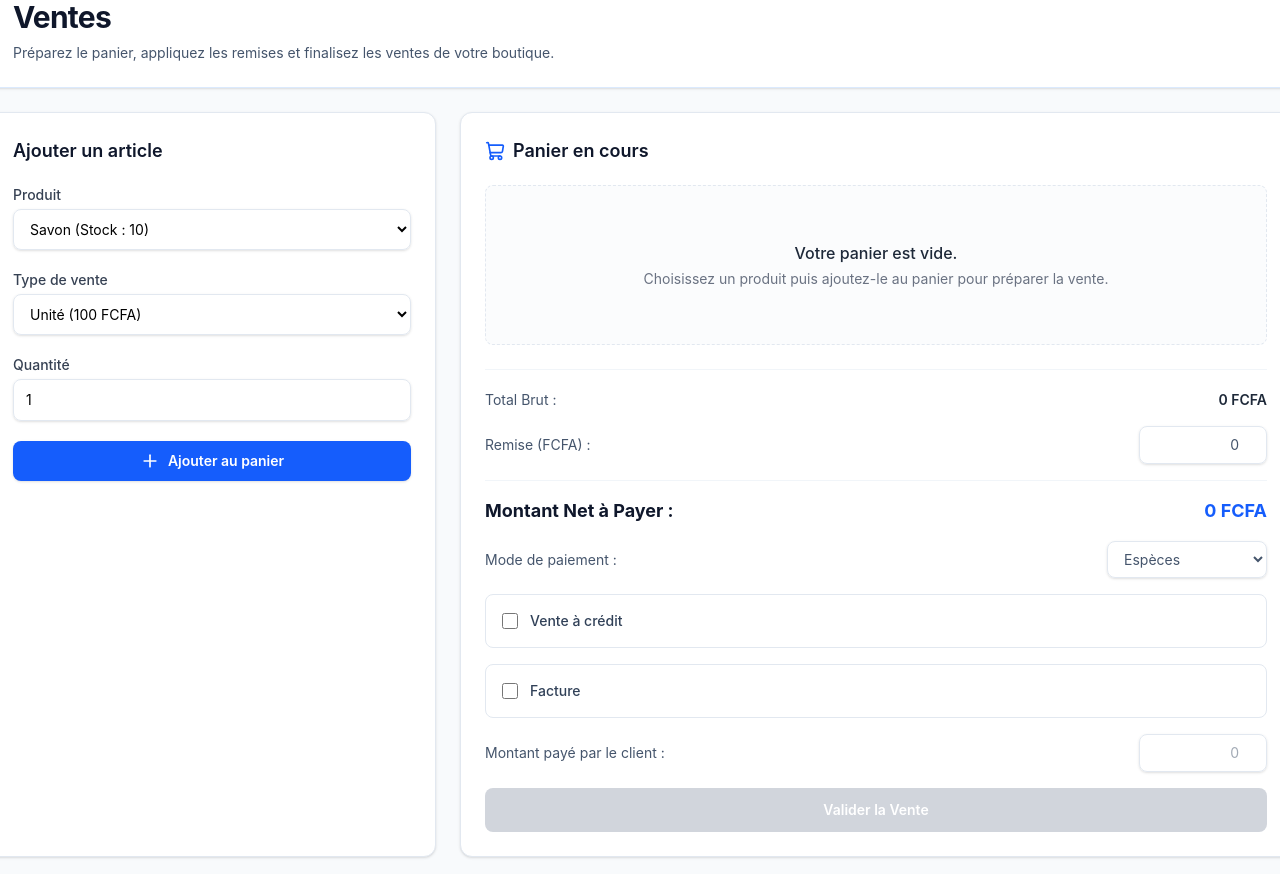
Test case: Sales - vente à crédit (V2 étape 5) › affiche l'avertissement de plafond de crédit renvoyé par l'API sans bloquer
Click the button "Ajouter au panier".
click(212, 461)  # box [13,441,411,481]
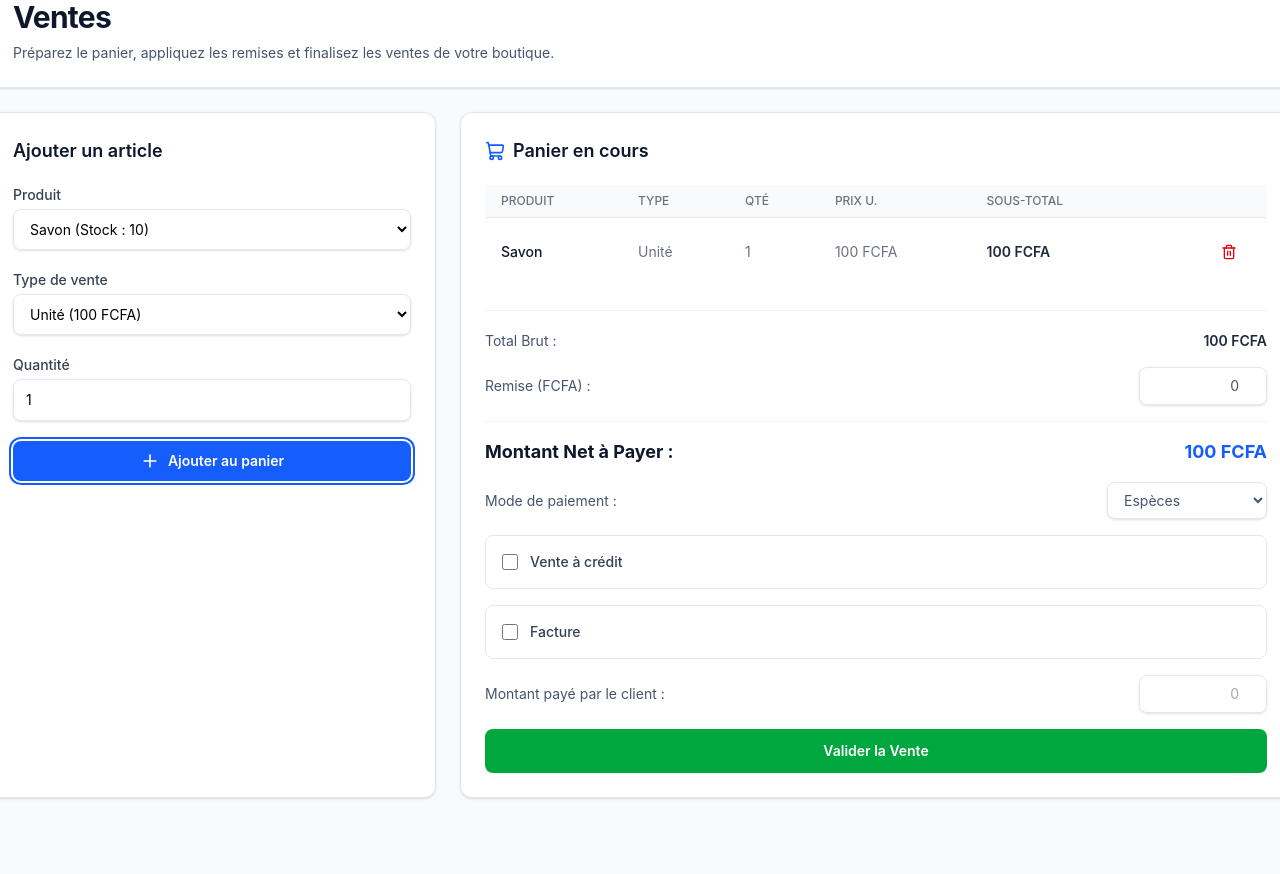
Click the checkbox labelled "Vente à crédit".
click(510, 562)  # box [502,554,518,570]
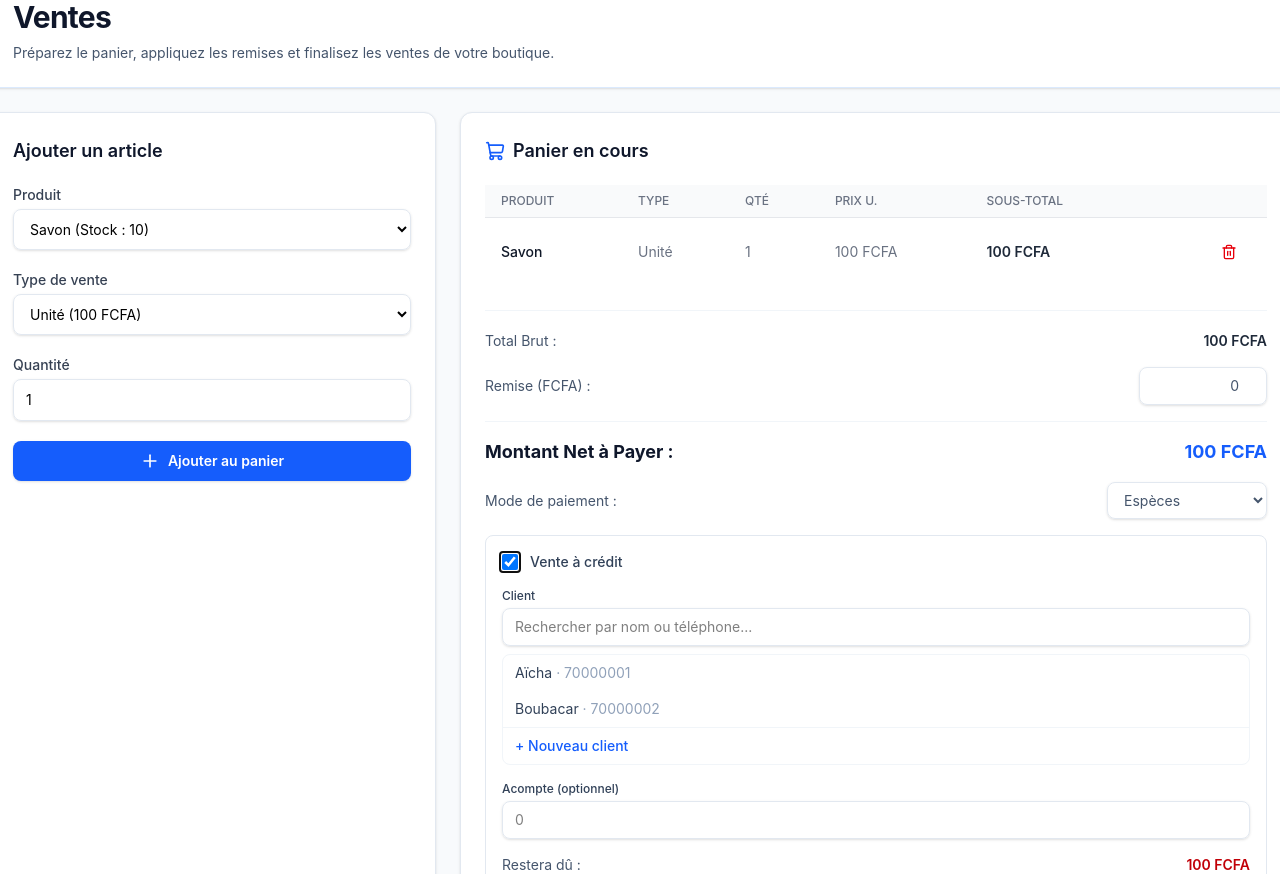
Check: the button "Aïcha · 70000001" is shown
Click the button "Aïcha · 70000001".
click(534, 672)  # box [503,655,1249,691]
(page scrolled)
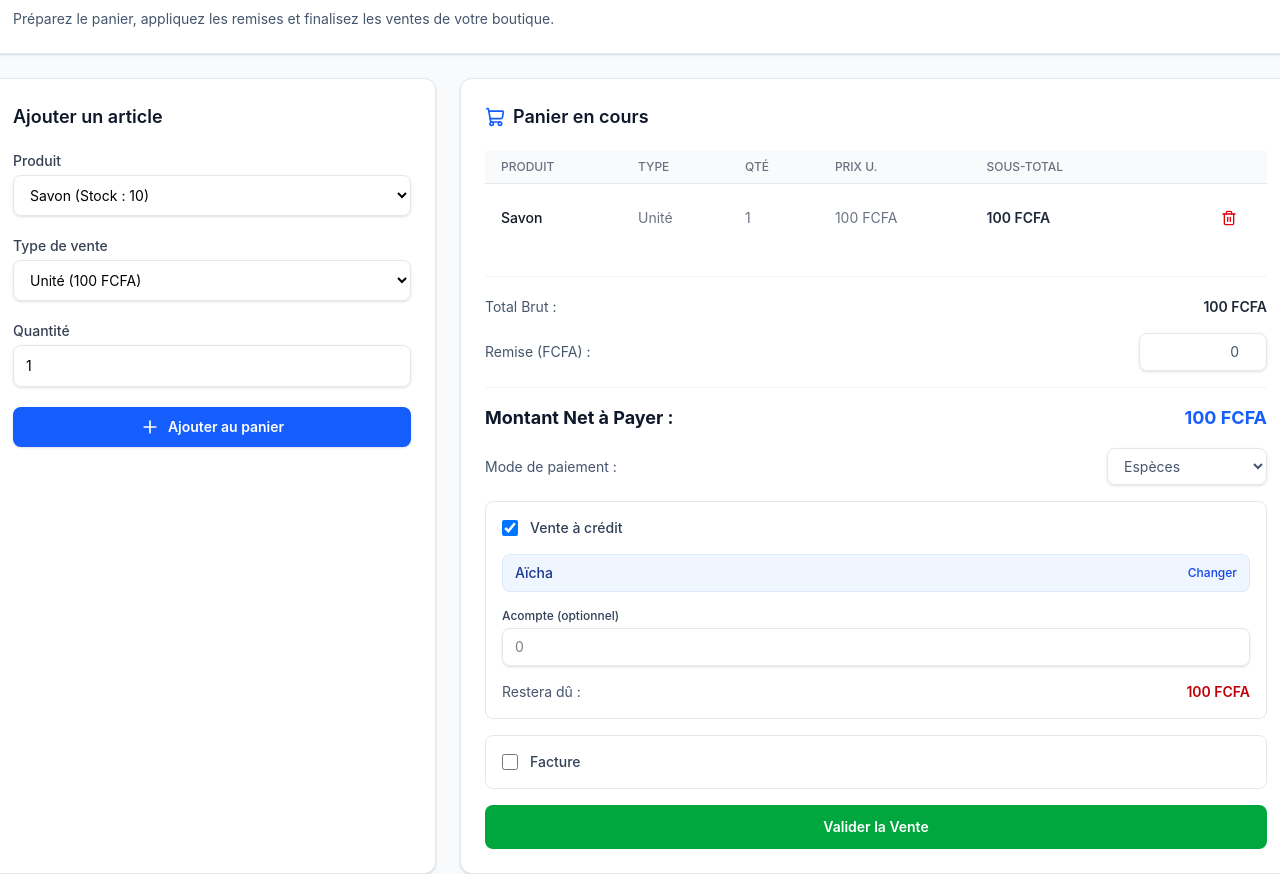
Click the button "Valider la Vente".
click(876, 827)  # box [485,805,1267,849]
(page scrolled)
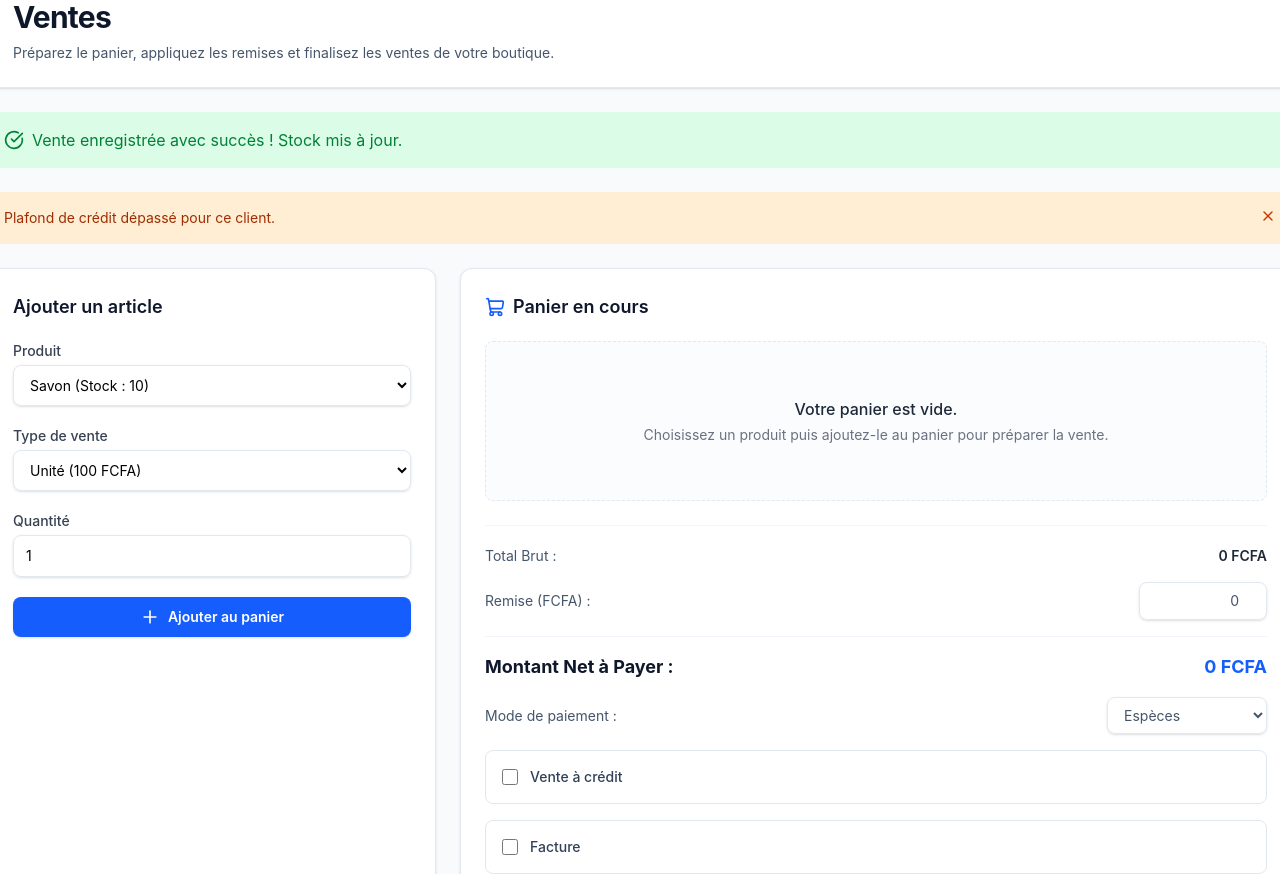
Check: the text "Plafond de crédit dépassé pour ce client." is shown, box [4,208,275,228]
